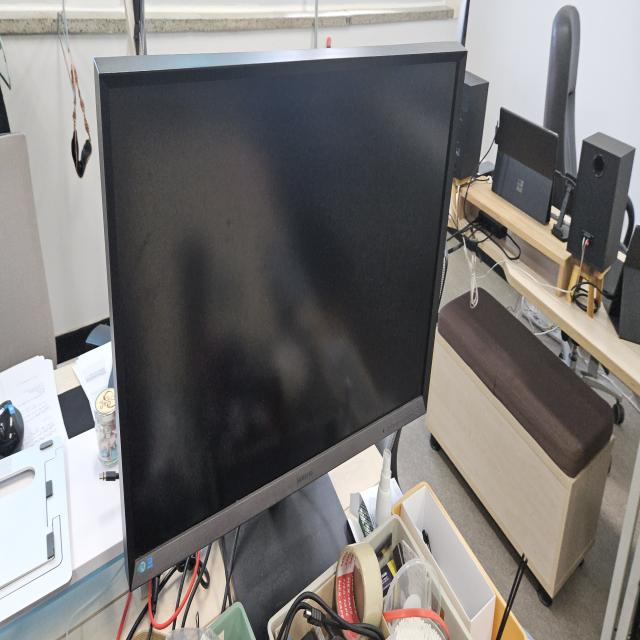Monitor: (90, 39, 468, 593)
Mouse: (0, 396, 25, 459)
